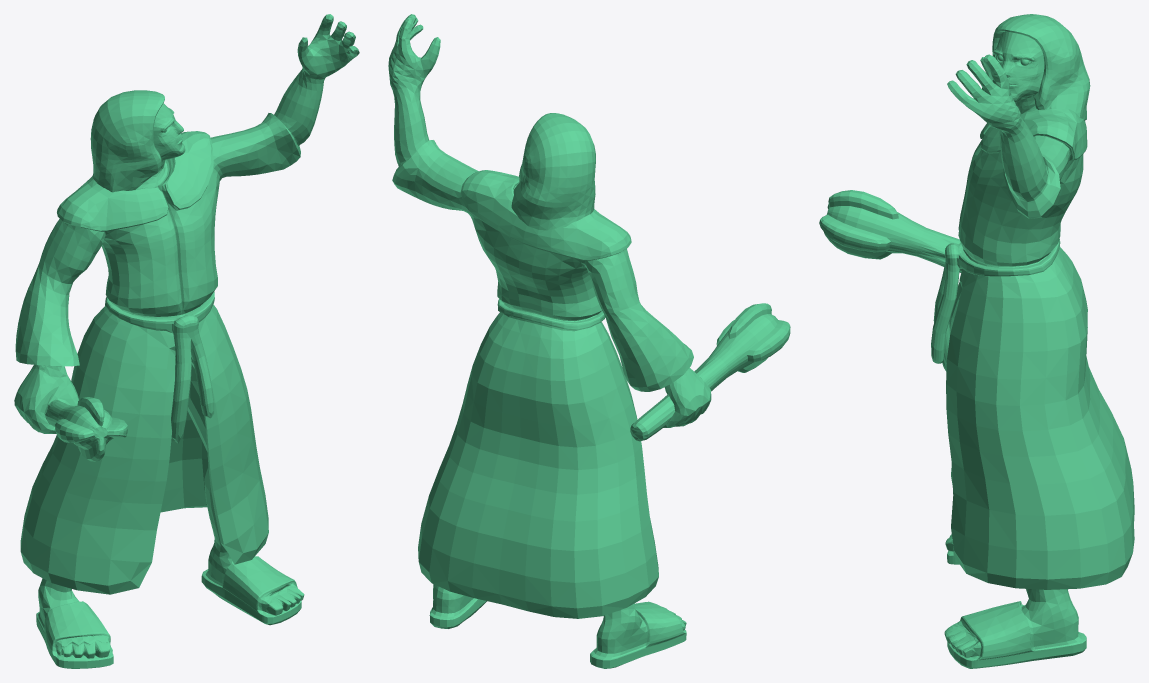
The model's file is priestNolan.fbx.
The picture shows the model from 3 angles, left to right: view 1: azimuth 30°, elevation 25°; view 2: azimuth 150°, elevation 25°; view 3: azimuth 270°, elevation 25°; orthographic projection. The views are drawn at different scales.
Parts seen in each view (by area): view 1: Priest for Shapeways; view 2: Priest for Shapeways; view 3: Priest for Shapeways.
Part boxes in pixels (<box>): Priest for Shapeways: <box>14,14,359,668</box>; Priest for Shapeways: <box>388,14,790,668</box>; Priest for Shapeways: <box>819,14,1134,668</box>.
Size of the model in its own units: 2547 by 1827 by 4058.
